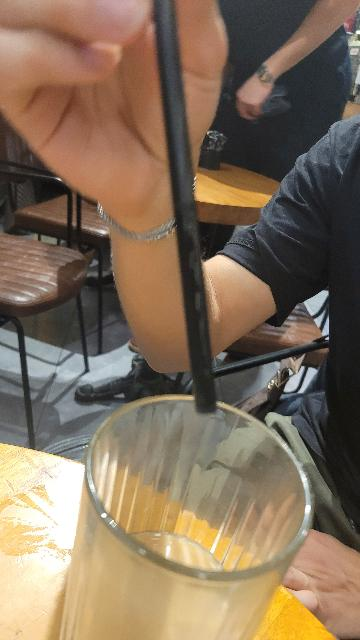Cam: (57, 389, 322, 640)
Plastik: (150, 71, 225, 417)
